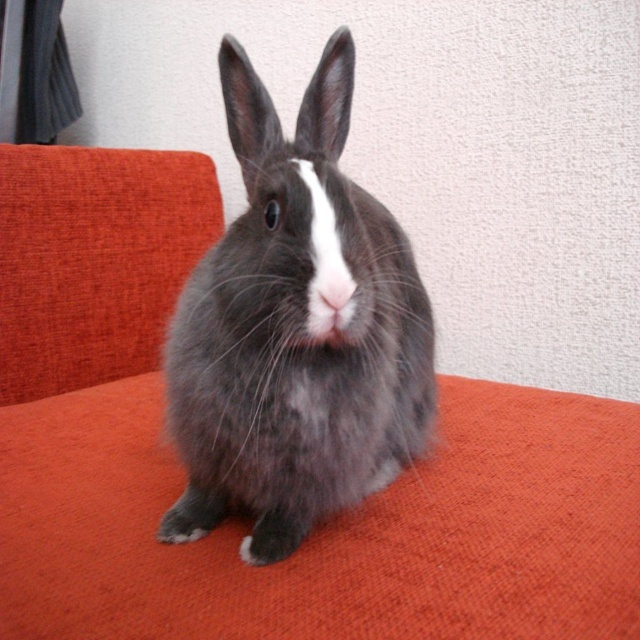Rabbit: (158, 28, 446, 570)
